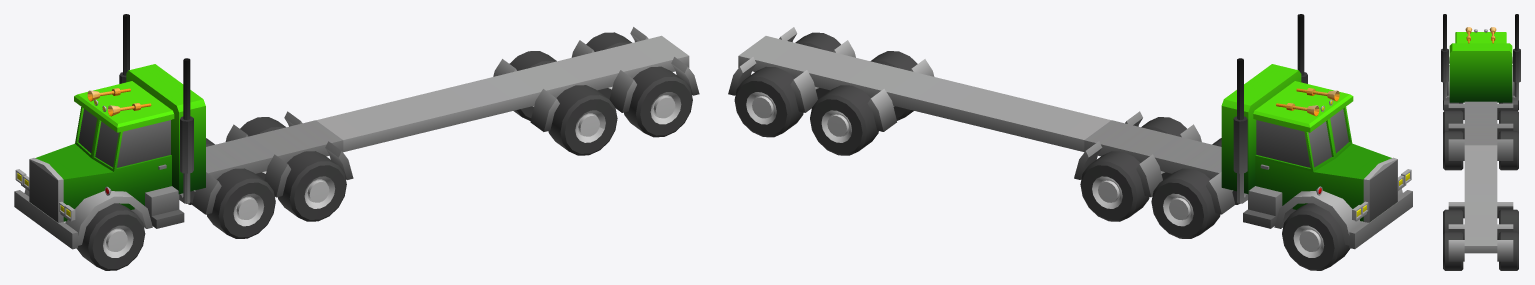
The model's file is Green_Truck.fbx.
3 views of the same model, side by side, from view 1: azimuth 30°, elevation 25°; view 2: azimuth 150°, elevation 25°; view 3: azimuth 270°, elevation 25° (orthographic). The views are drawn at different scales.
Visible parts, largest first — view 1: G_TruckCargo, G_TruckLoad; view 2: G_TruckCargo, G_TruckLoad; view 3: G_TruckCargo, G_TruckLoad.
Part boxes in pixels (x1,y1,x2,y2): G_TruckCargo: (14,14,353,270); G_TruckLoad: (316,27,699,155); G_TruckCargo: (1074,14,1412,270); G_TruckLoad: (728,27,1111,155); G_TruckCargo: (1441,14,1520,170); G_TruckLoad: (1443,145,1518,270).
Bounding box in the file's own units: 905 × 265 × 166.
Materials: 2 (2 with a texture image).
